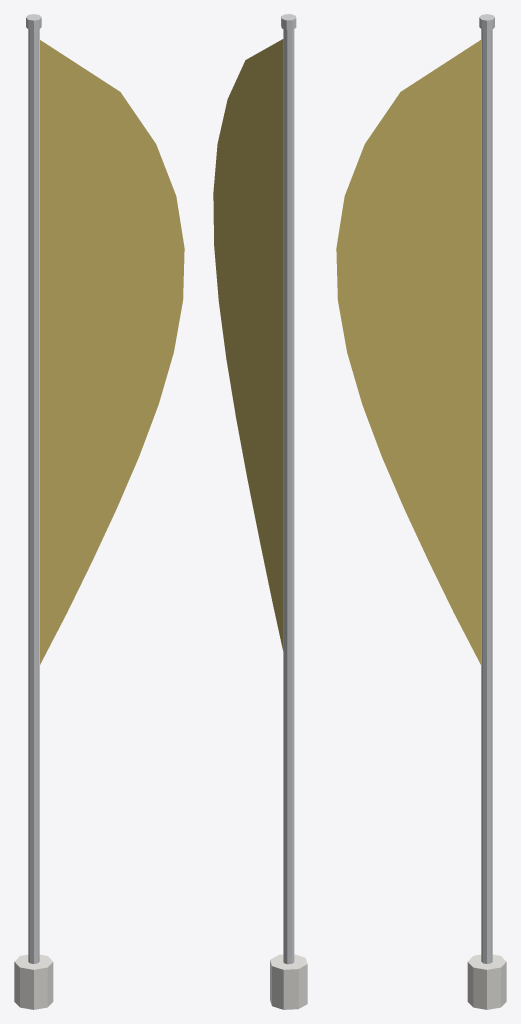
The model's file is Feather_Flag_Pink.fbx.
The picture shows the model from 3 angles, left to right: view 1: azimuth 90°, elevation 25°; view 2: azimuth 210°, elevation 25°; view 3: azimuth 270°, elevation 25°; orthographic projection.
Visible parts, largest first — view 1: Feather_Flag_Pink; view 2: Feather_Flag_Pink; view 3: Feather_Flag_Pink.
Part boxes in pixels (left/top/right/bottom): Feather_Flag_Pink: left=14, top=14, right=184, bottom=1009; Feather_Flag_Pink: left=213, top=14, right=307, bottom=1009; Feather_Flag_Pink: left=336, top=14, right=506, bottom=1009.
Size of the model in its own units: 0.22 by 6.14 by 0.9622.
